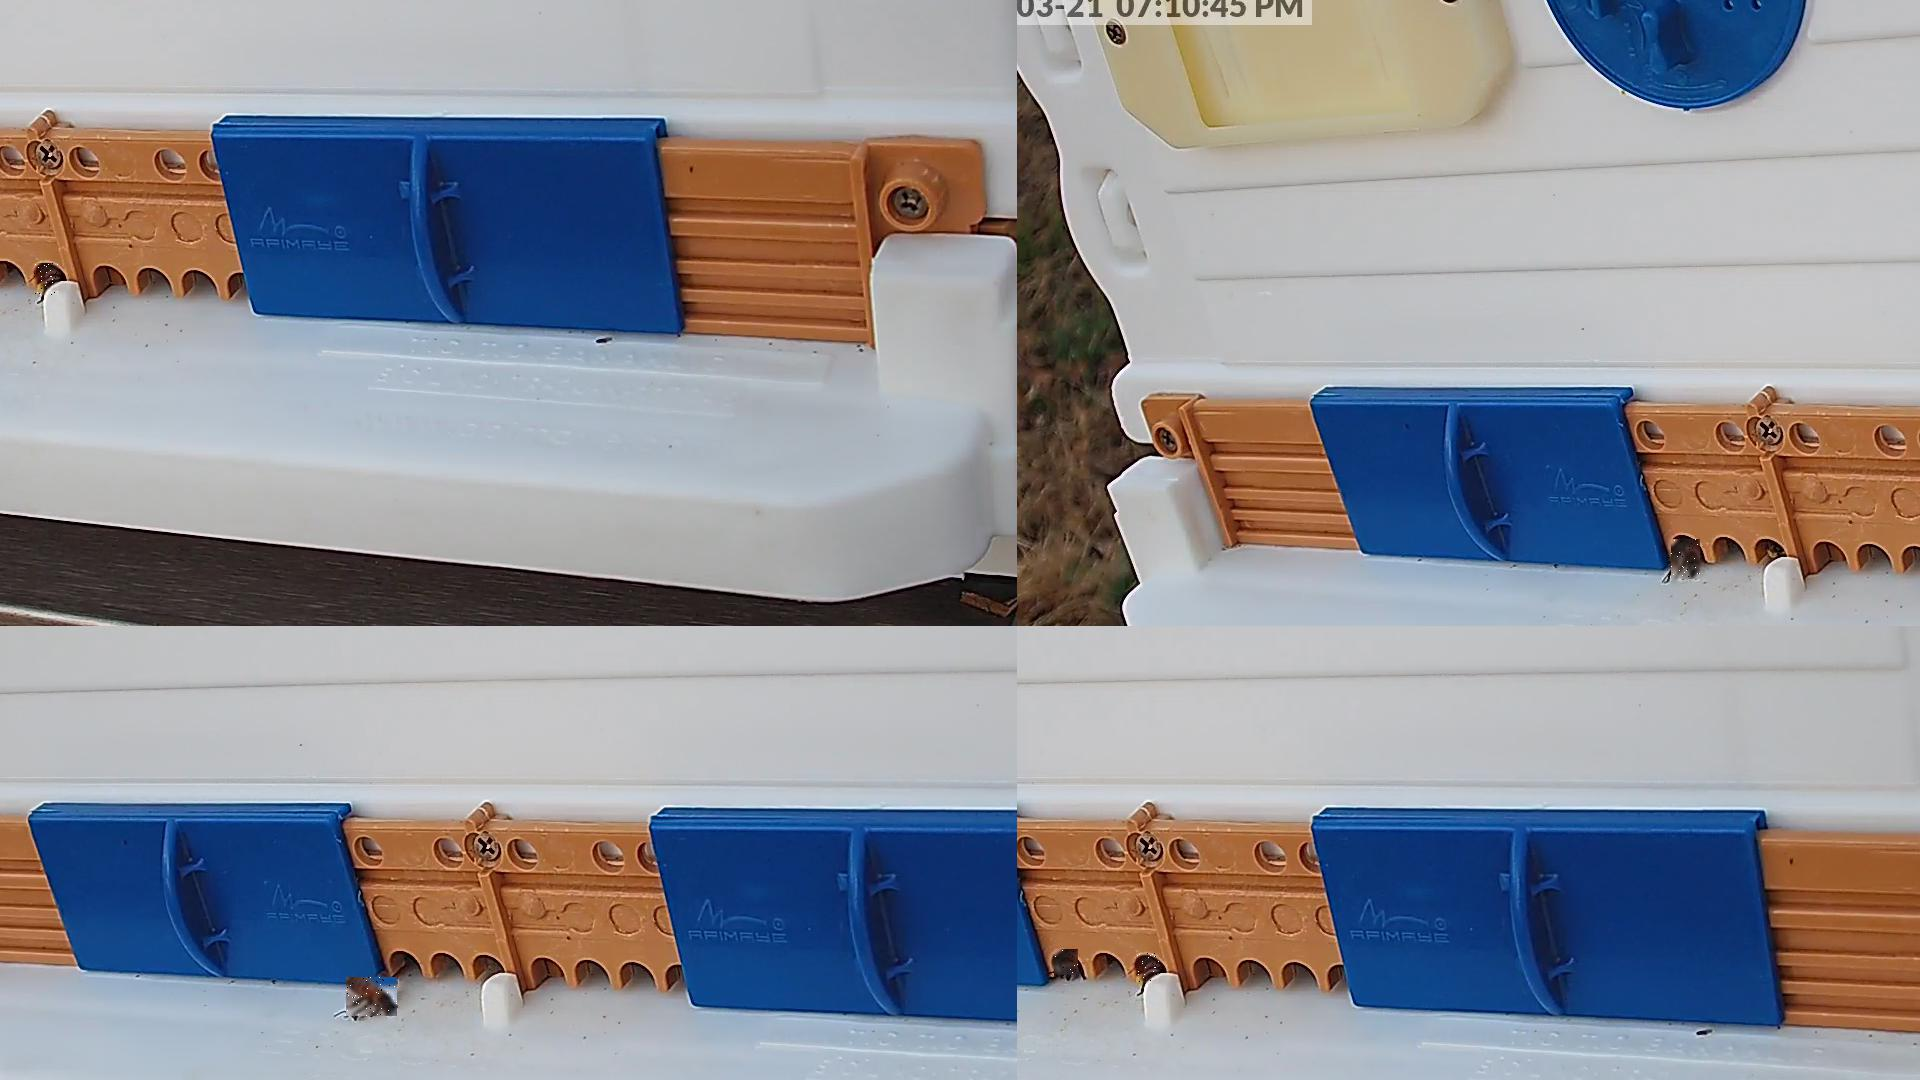bee: (347, 977, 398, 1017), (1671, 539, 1701, 580), (1054, 949, 1079, 978)
pollenbee: (34, 264, 59, 295), (1137, 953, 1160, 984)
